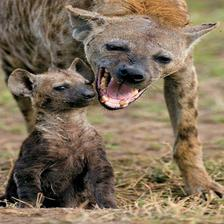hyena: (0, 0, 214, 115)
